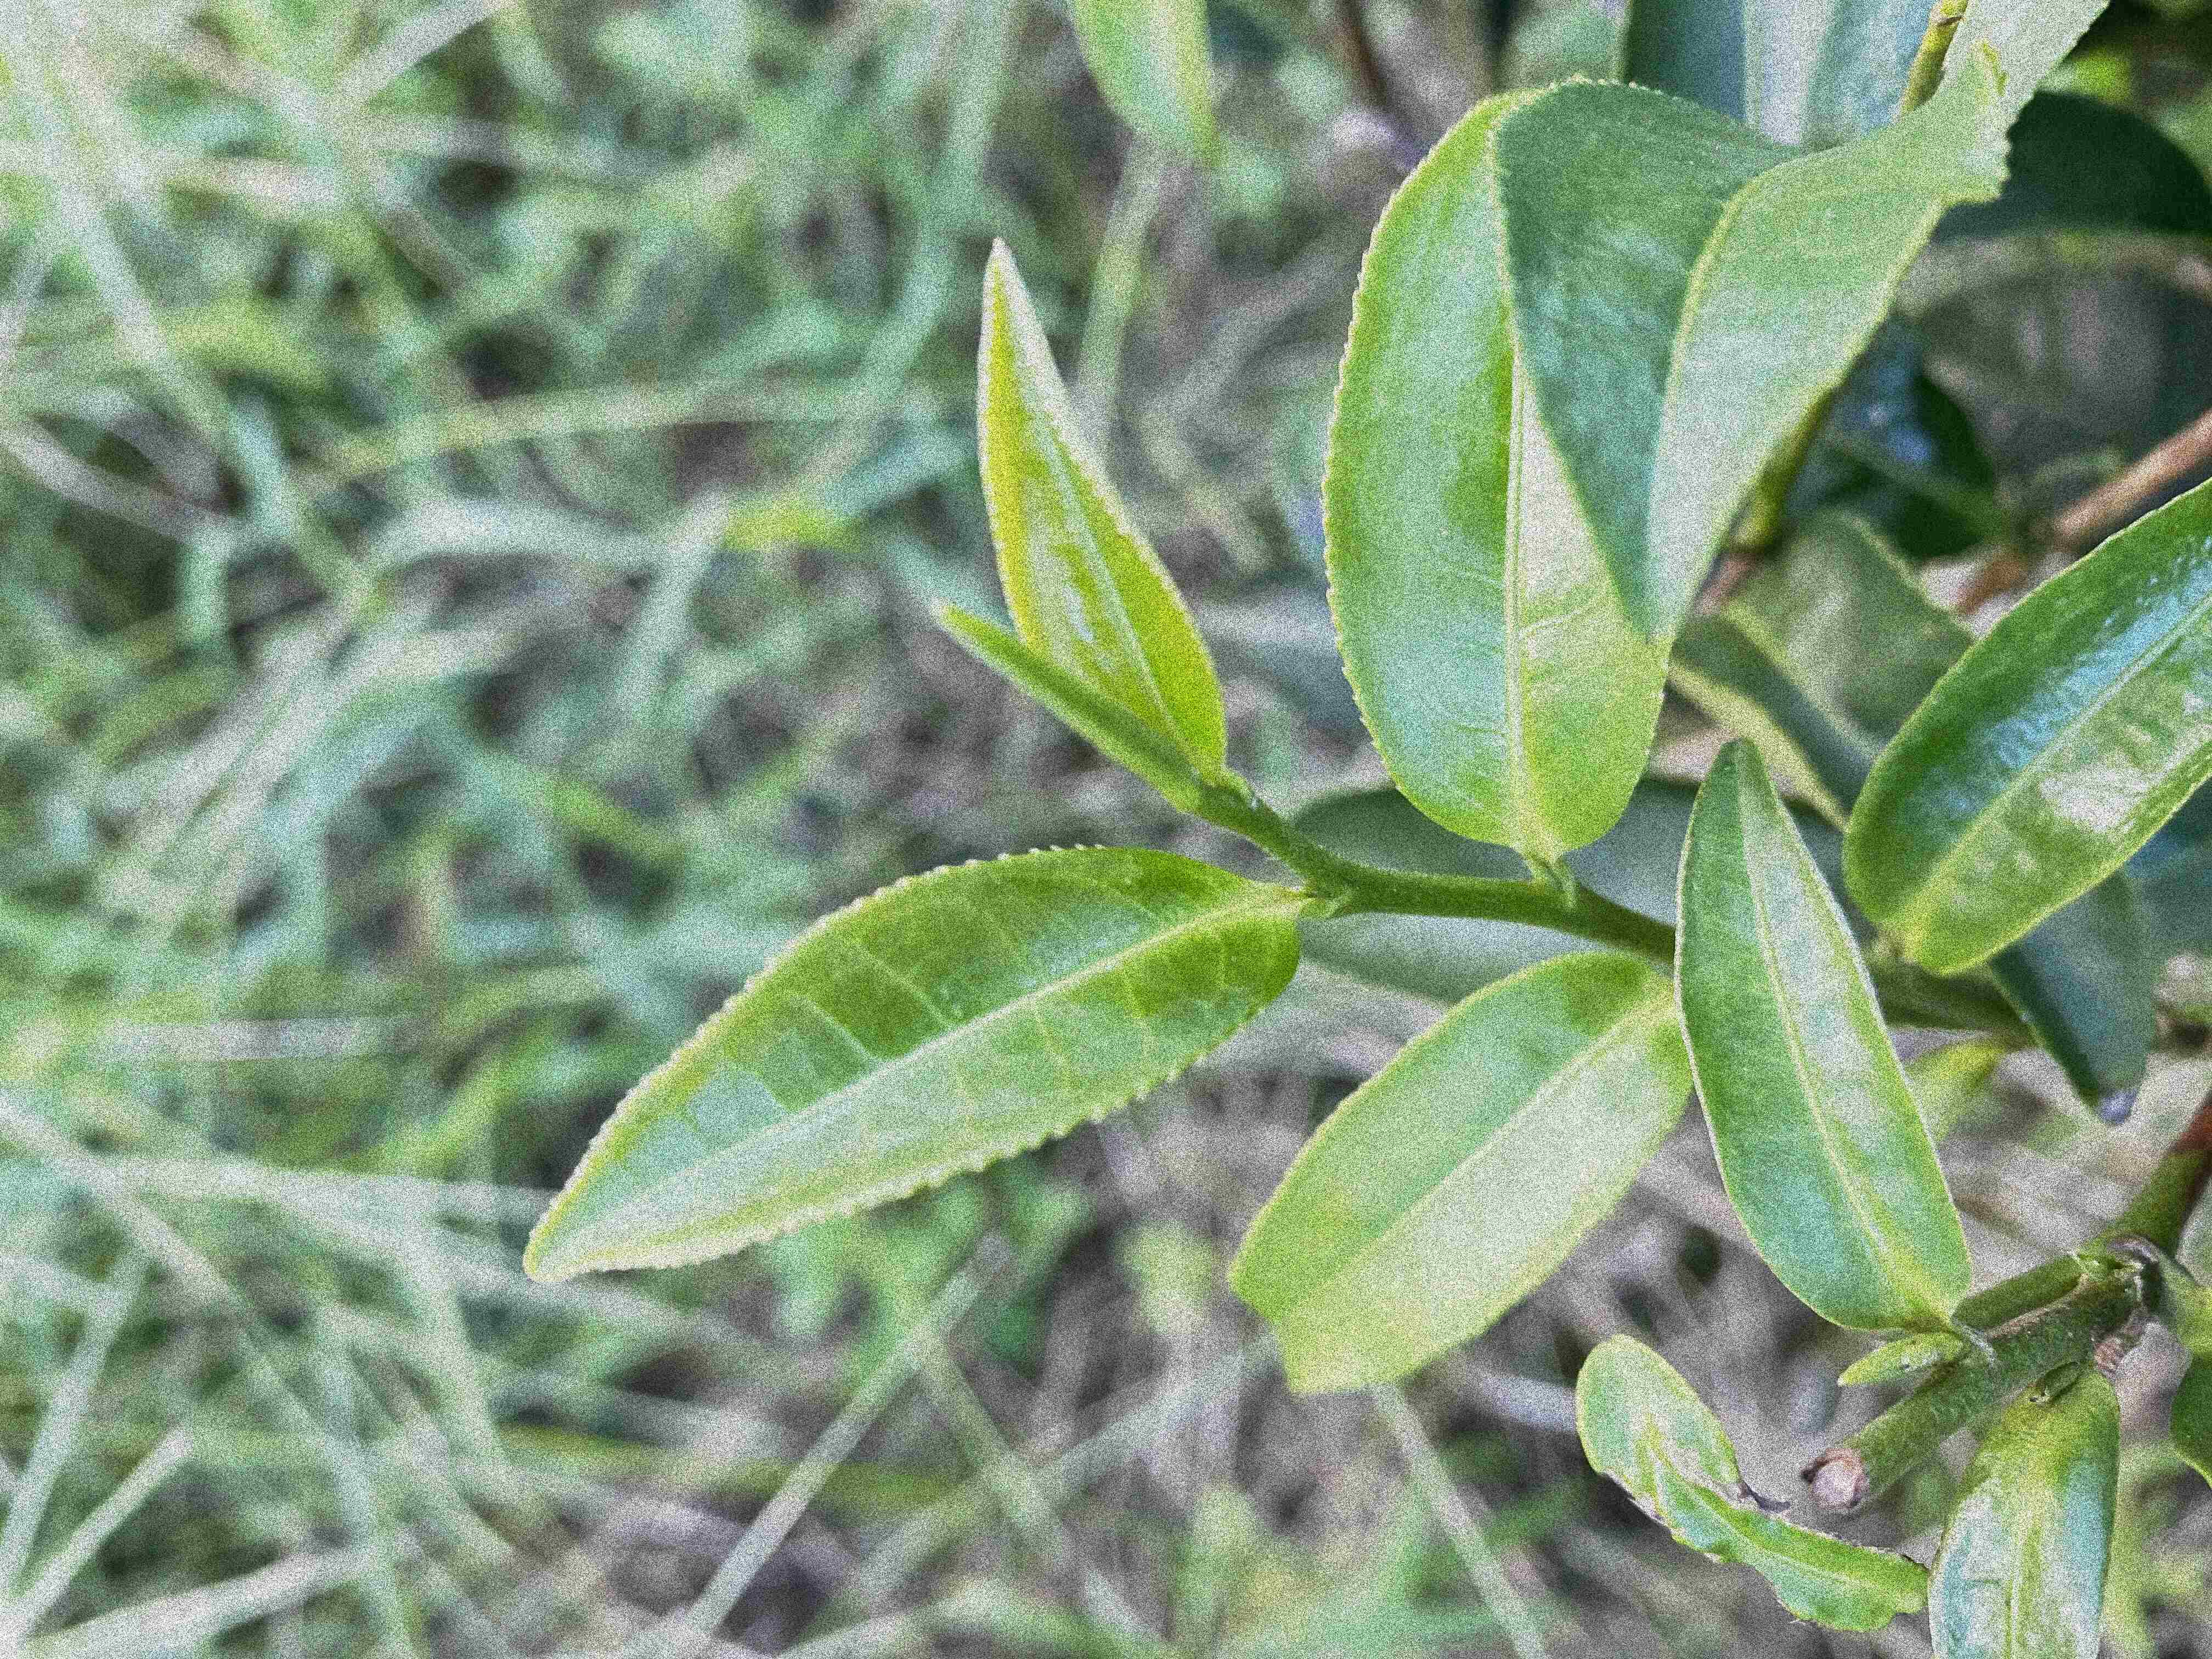chihuo_high: (1573, 1328, 1928, 1636)
healthy: (516, 840, 1305, 1286), (1480, 35, 2015, 648), (1320, 98, 1665, 854), (1841, 483, 2210, 981), (1672, 737, 1975, 1331), (972, 234, 1233, 782)
